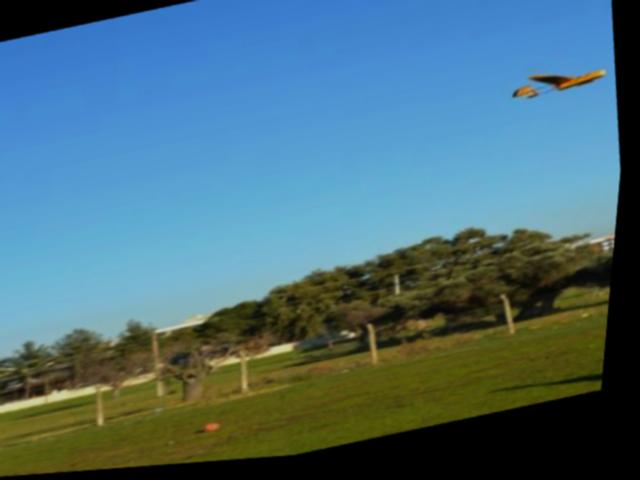iha: (509, 63, 621, 116)
